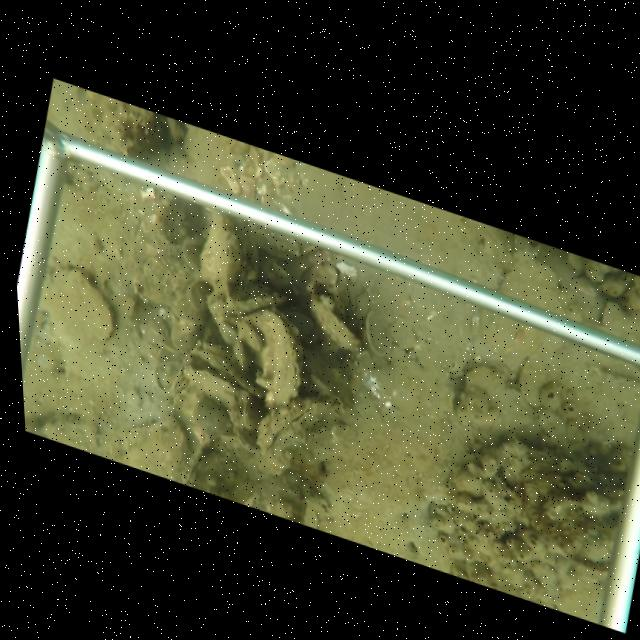Oyster-Closed: (242, 308, 305, 412), (256, 397, 333, 471), (197, 210, 243, 302), (312, 294, 363, 355), (166, 350, 193, 413), (179, 437, 213, 486), (239, 394, 255, 433)
Oyster-Indeterminate: (43, 265, 117, 347), (499, 254, 585, 324), (110, 416, 189, 481)
